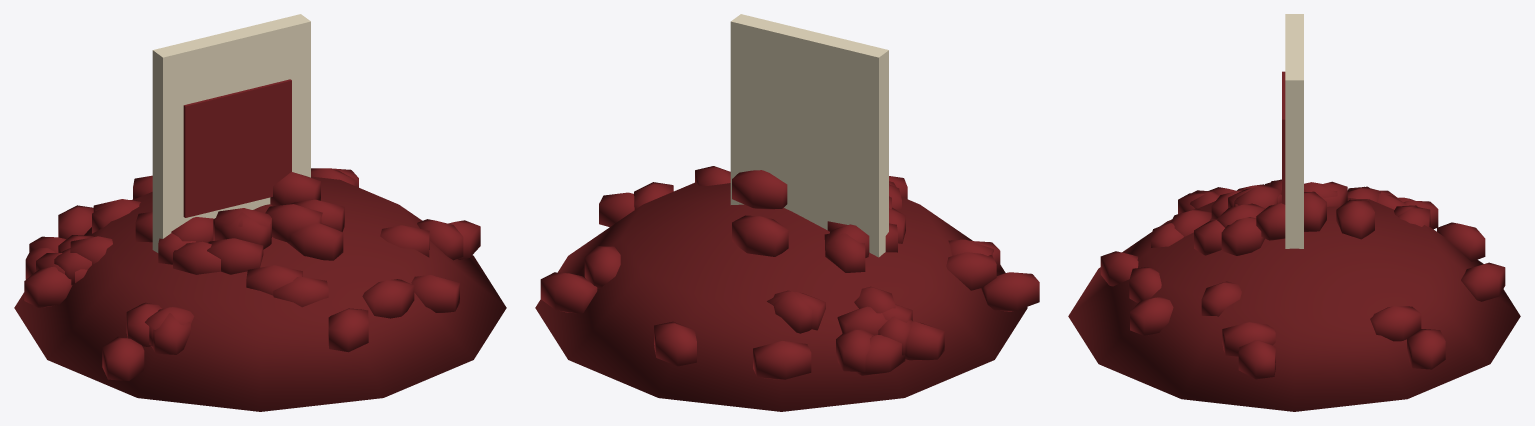
Rendered from Veg_RedBean.fbx.
3 views of the same model, side by side, from view 1: azimuth 30°, elevation 25°; view 2: azimuth 150°, elevation 25°; view 3: azimuth 270°, elevation 25° (orthographic). The views are drawn at different scales.
Parts seen in each view (by area): view 1: Veg_RedBean__Stack, Veg_RedBean__Seed; view 2: Veg_RedBean__Stack, Veg_RedBean__Seed; view 3: Veg_RedBean__Stack, Veg_RedBean__Seed.
Boxes of the visible parts, x1=… form: Veg_RedBean__Stack: x1=14, y1=168, x2=506, y2=411; Veg_RedBean__Seed: x1=152, y1=14, x2=310, y2=252; Veg_RedBean__Stack: x1=535, y1=166, x2=1039, y2=411; Veg_RedBean__Seed: x1=730, y1=14, x2=888, y2=257; Veg_RedBean__Stack: x1=1068, y1=179, x2=1520, y2=411; Veg_RedBean__Seed: x1=1282, y1=14, x2=1303, y2=248.
Bounding box in the file's own units: 0.144 × 0.09 × 0.144.
